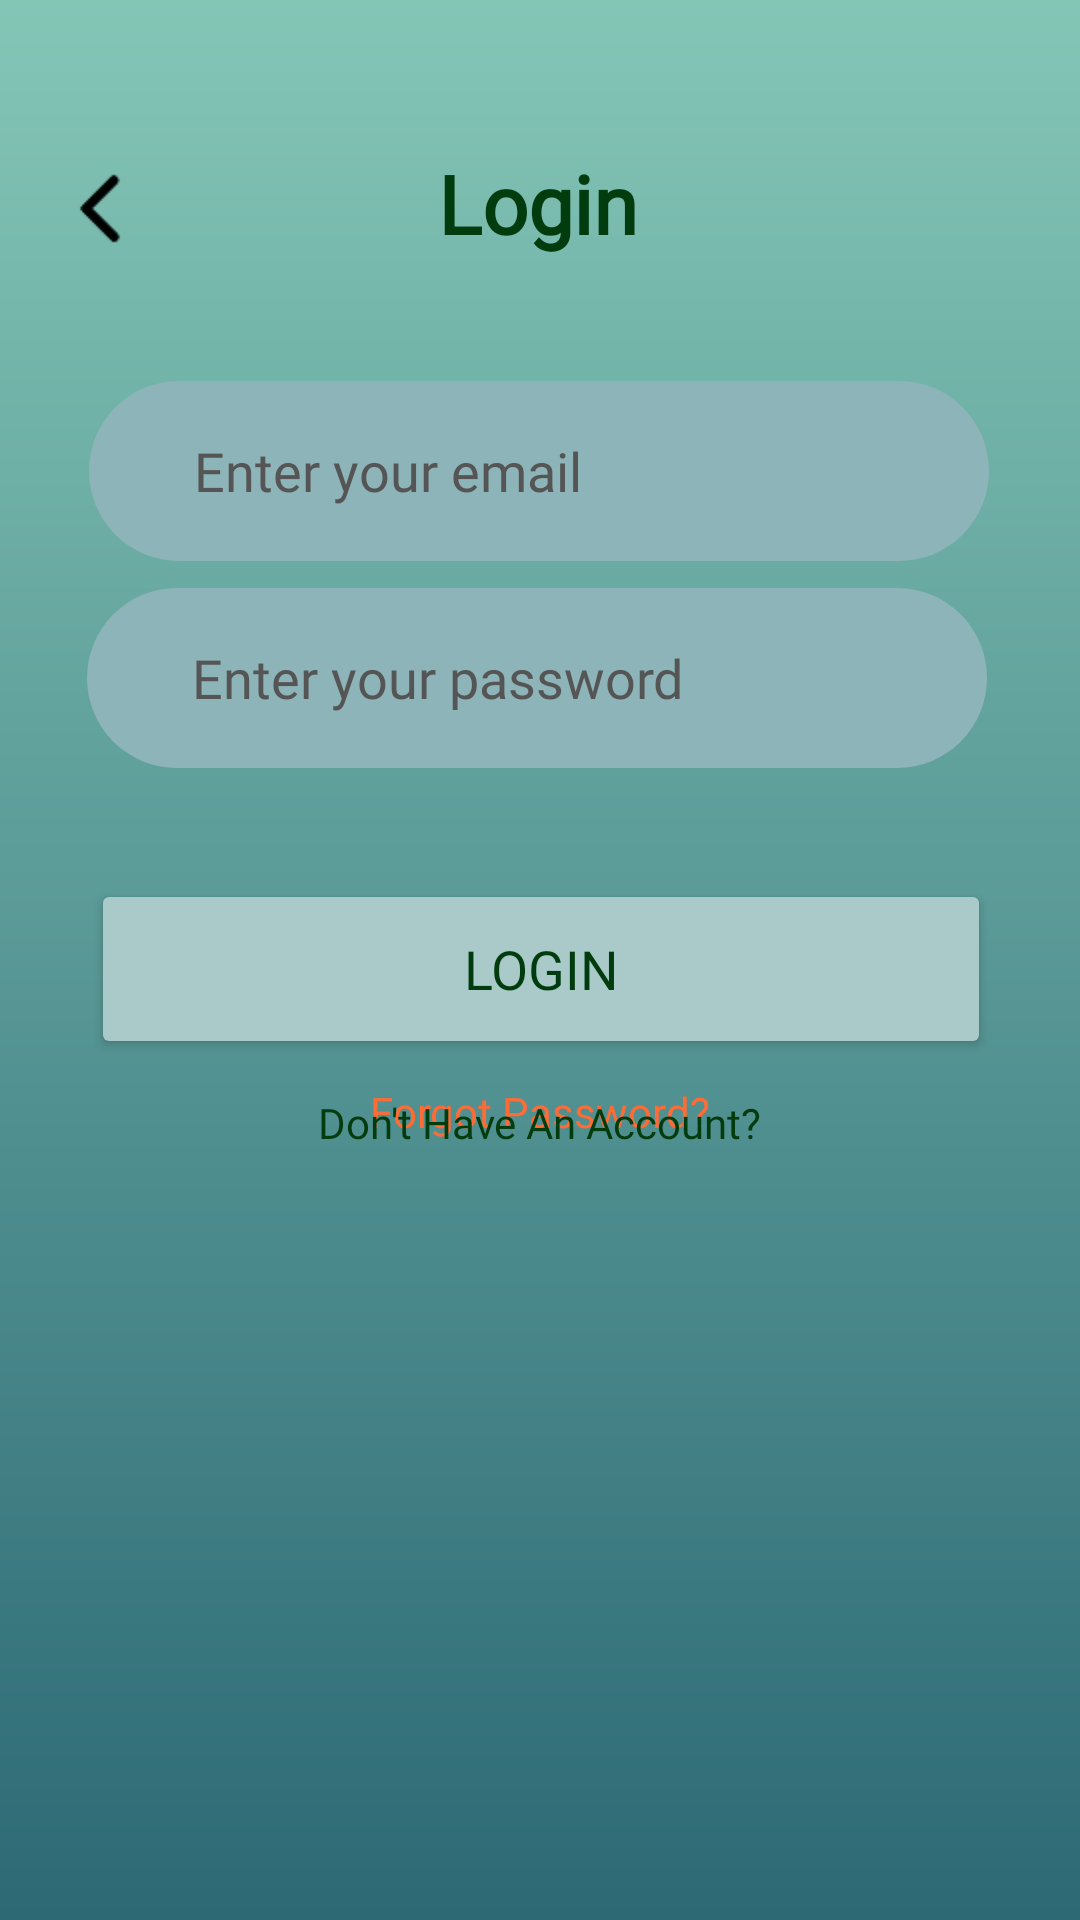

Icon bounding boxes for this 1080w x 1920h phone screenshot, format (x1, y1, x2, y2):
back: (80, 174, 120, 243)
